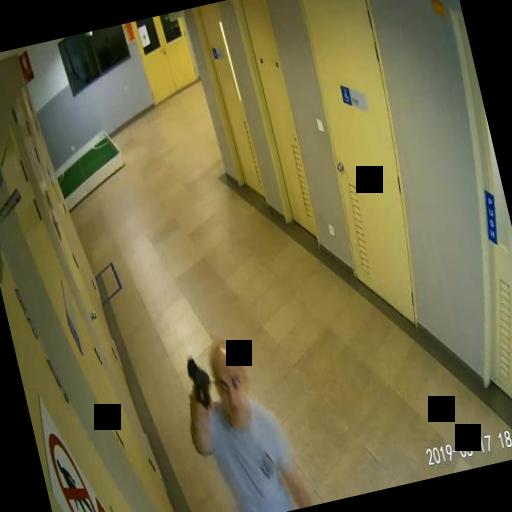Handgun: (181, 352, 216, 417)
